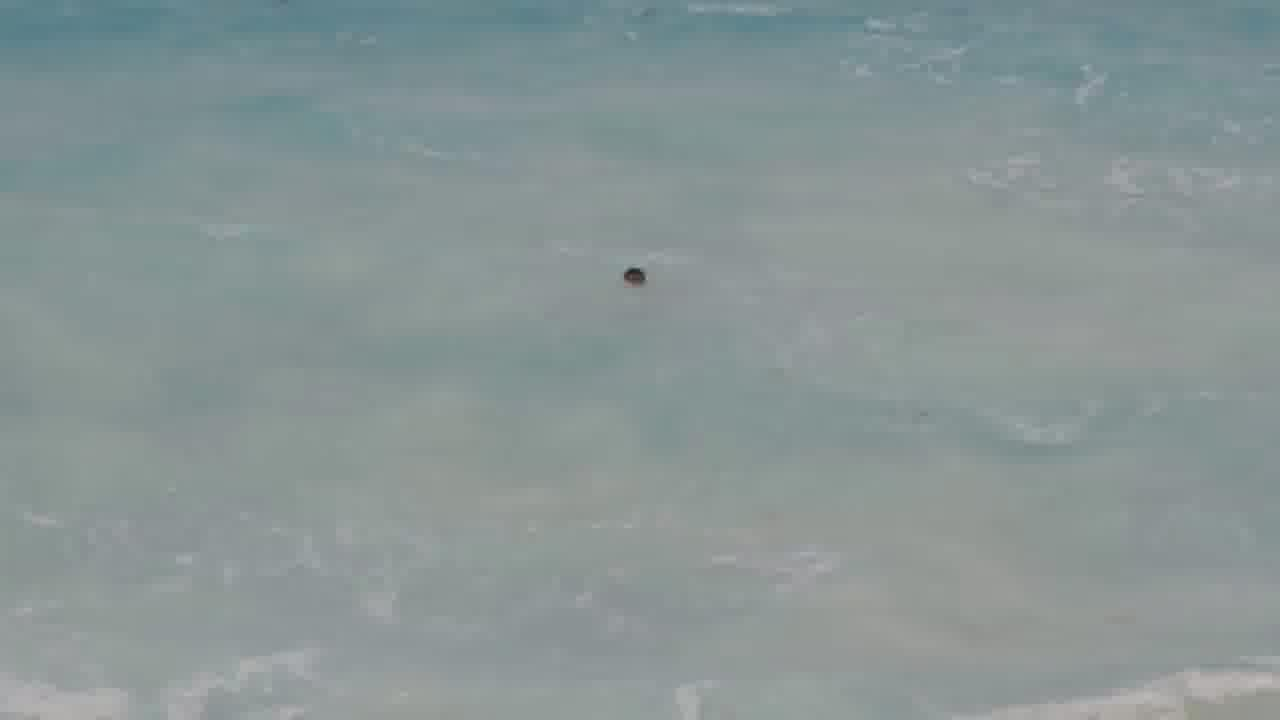swimmer: (603, 251, 662, 306)
